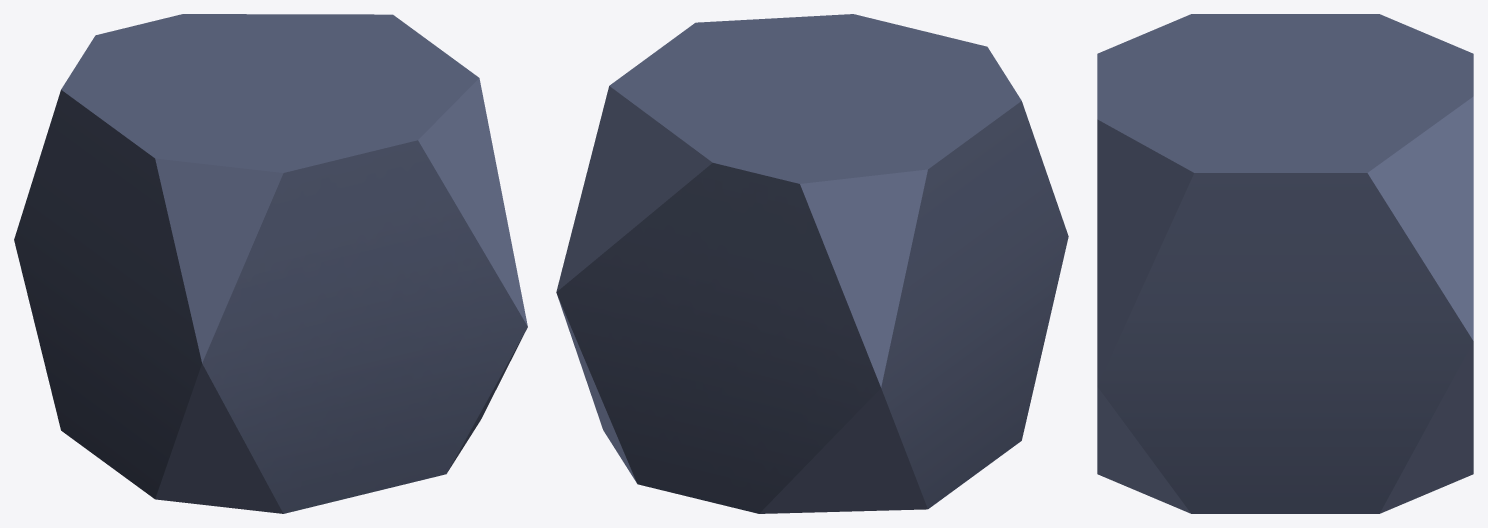
The model's file is Stone.fbx.
3 views of the same model, side by side, from view 1: azimuth 30°, elevation 25°; view 2: azimuth 150°, elevation 25°; view 3: azimuth 270°, elevation 25° (orthographic).
Parts seen in each view (by area): view 1: Stone; view 2: Stone; view 3: Stone.
Boxes of the visible parts, x1,y1,x2,y2 form: Stone: [14, 14, 527, 513]; Stone: [556, 14, 1068, 513]; Stone: [1097, 14, 1473, 513].
Bounding box in the file's own units: 1.89 × 1.89 × 1.89.
Materials: 1 (1 with a texture image).
